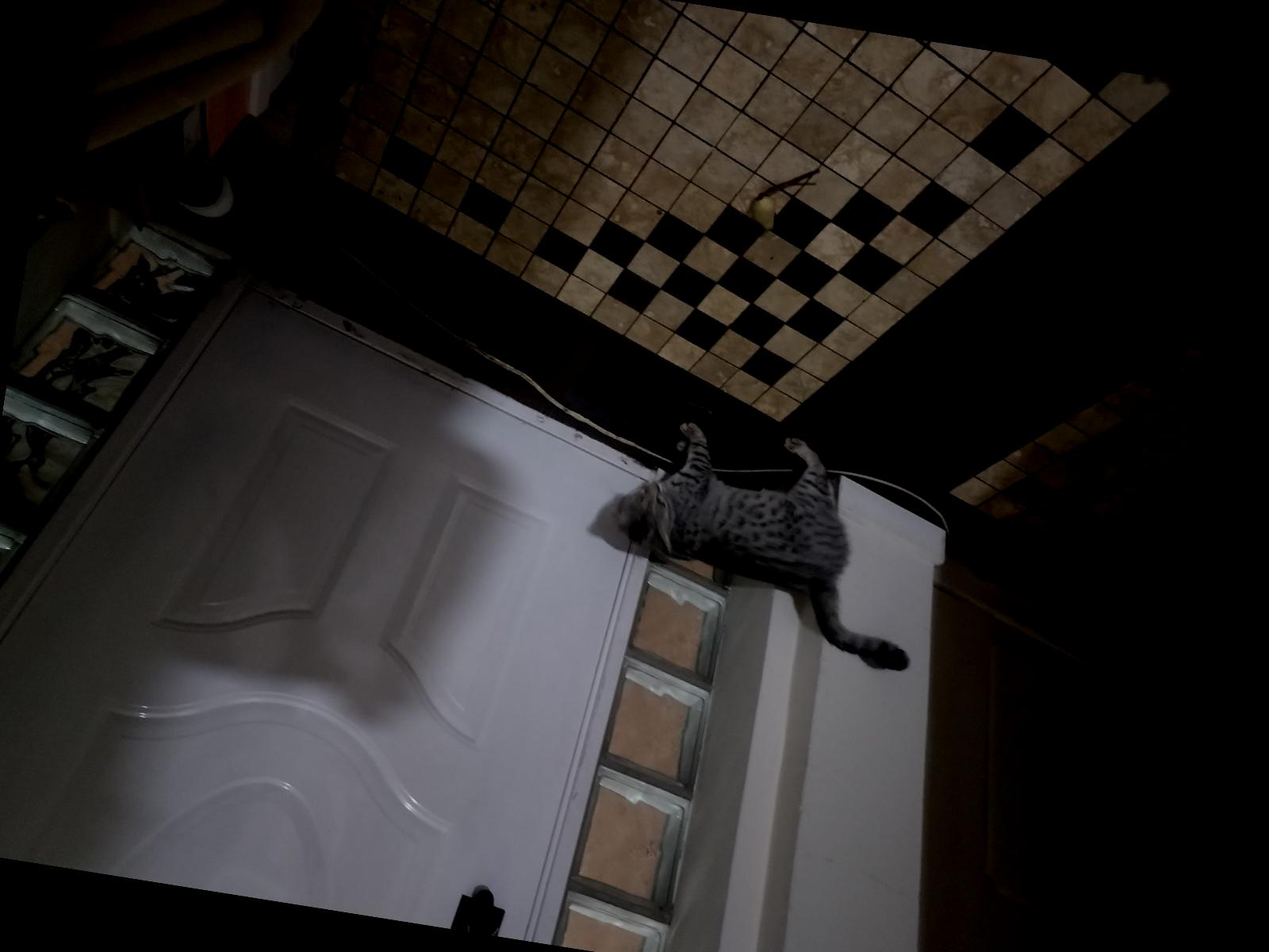macka: (596, 409, 941, 676)
